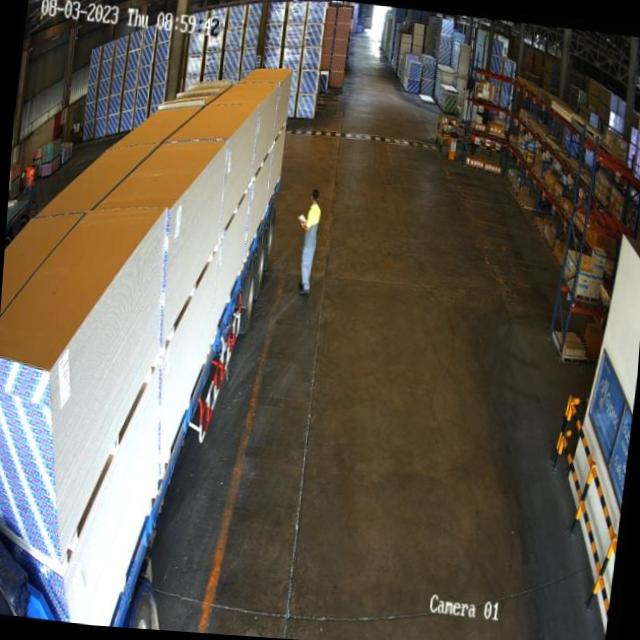person: (290, 185, 324, 301)
